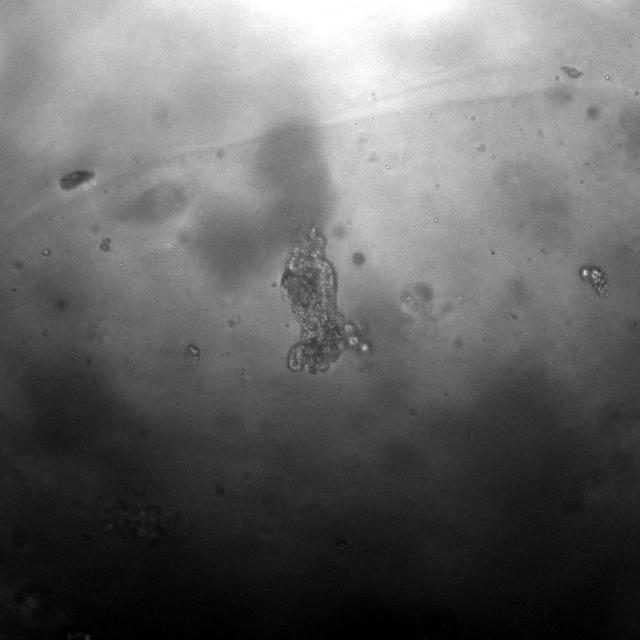organoid: (280, 229, 369, 374), (101, 500, 176, 542), (579, 265, 608, 295)
